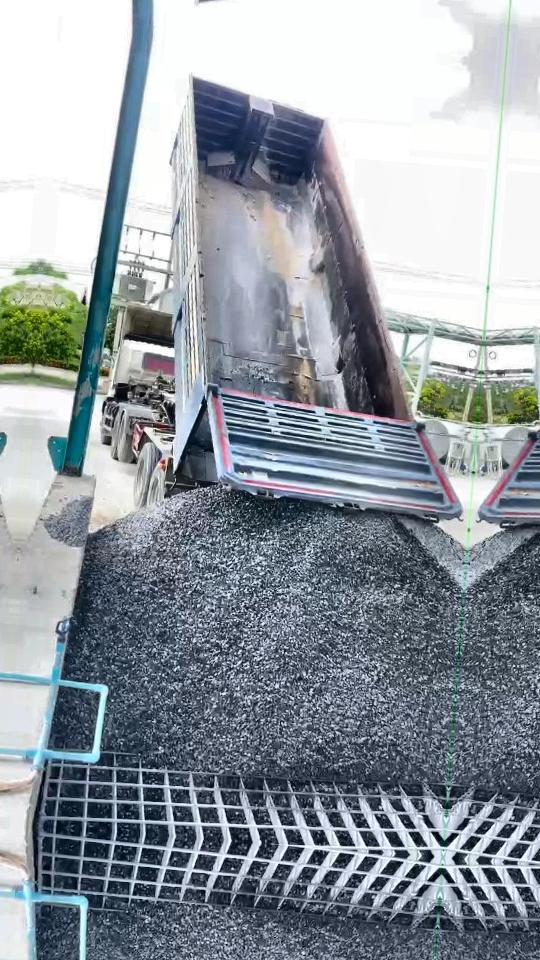gravel: (65, 487, 460, 780), (402, 517, 465, 586), (53, 690, 94, 747), (45, 496, 91, 546)
